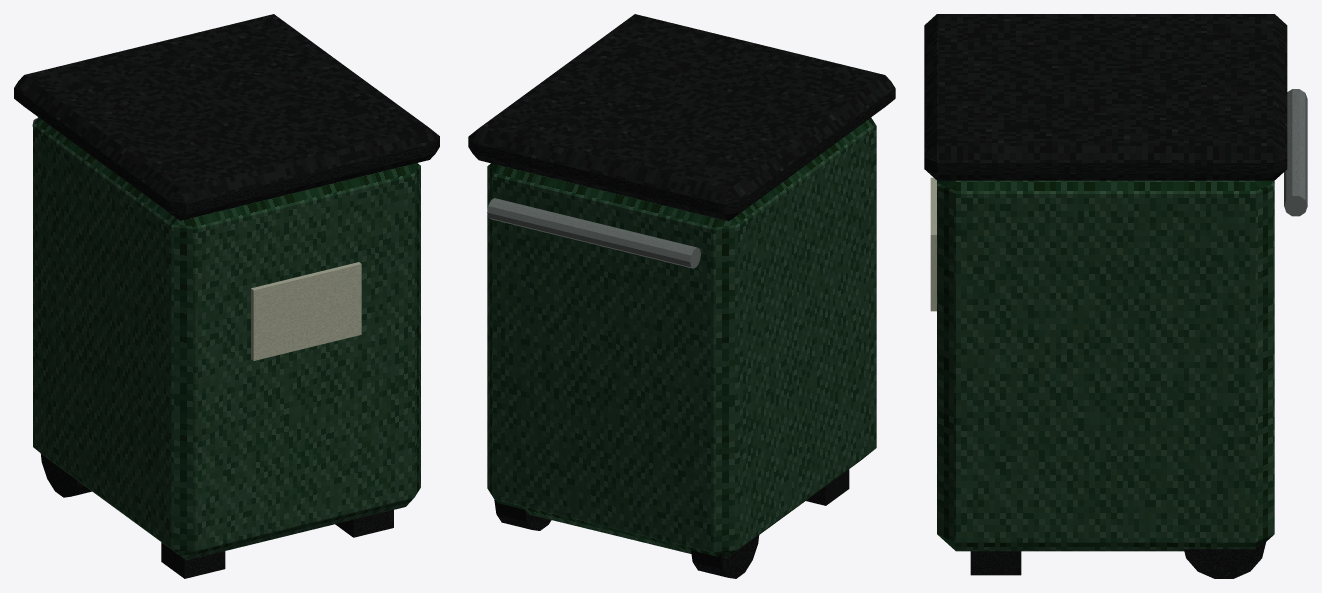
File: level_camp_refuse_bin.glb
3 views of the same model, side by side, from view 1: azimuth 30°, elevation 25°; view 2: azimuth 150°, elevation 25°; view 3: azimuth 270°, elevation 25° (orthographic). The views are drawn at different scales.
Parts seen in each view (by area): view 1: level_camp_refuse_bin; view 2: level_camp_refuse_bin; view 3: level_camp_refuse_bin.
Part boxes in pixels (x1,y1,x2,y2): level_camp_refuse_bin: (14,14,439,578); level_camp_refuse_bin: (468,14,895,578); level_camp_refuse_bin: (924,14,1307,578).
Size of the model in its own units: 0.8 by 1.15 by 0.908.
4 materials, 4 textured.
